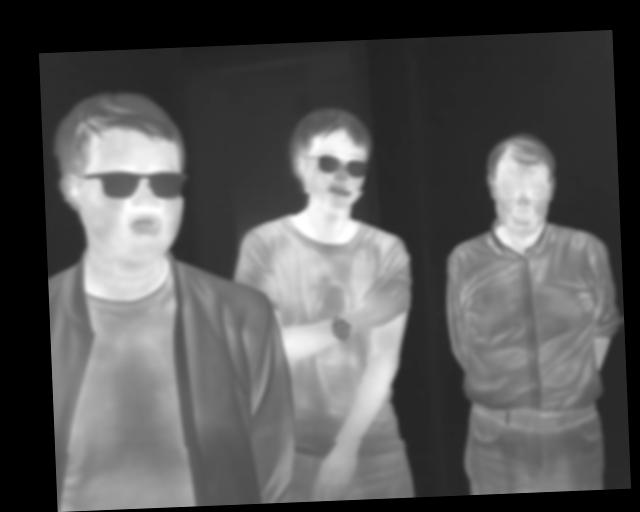face: (53, 86, 194, 269), (286, 102, 375, 213), (483, 132, 558, 237)
